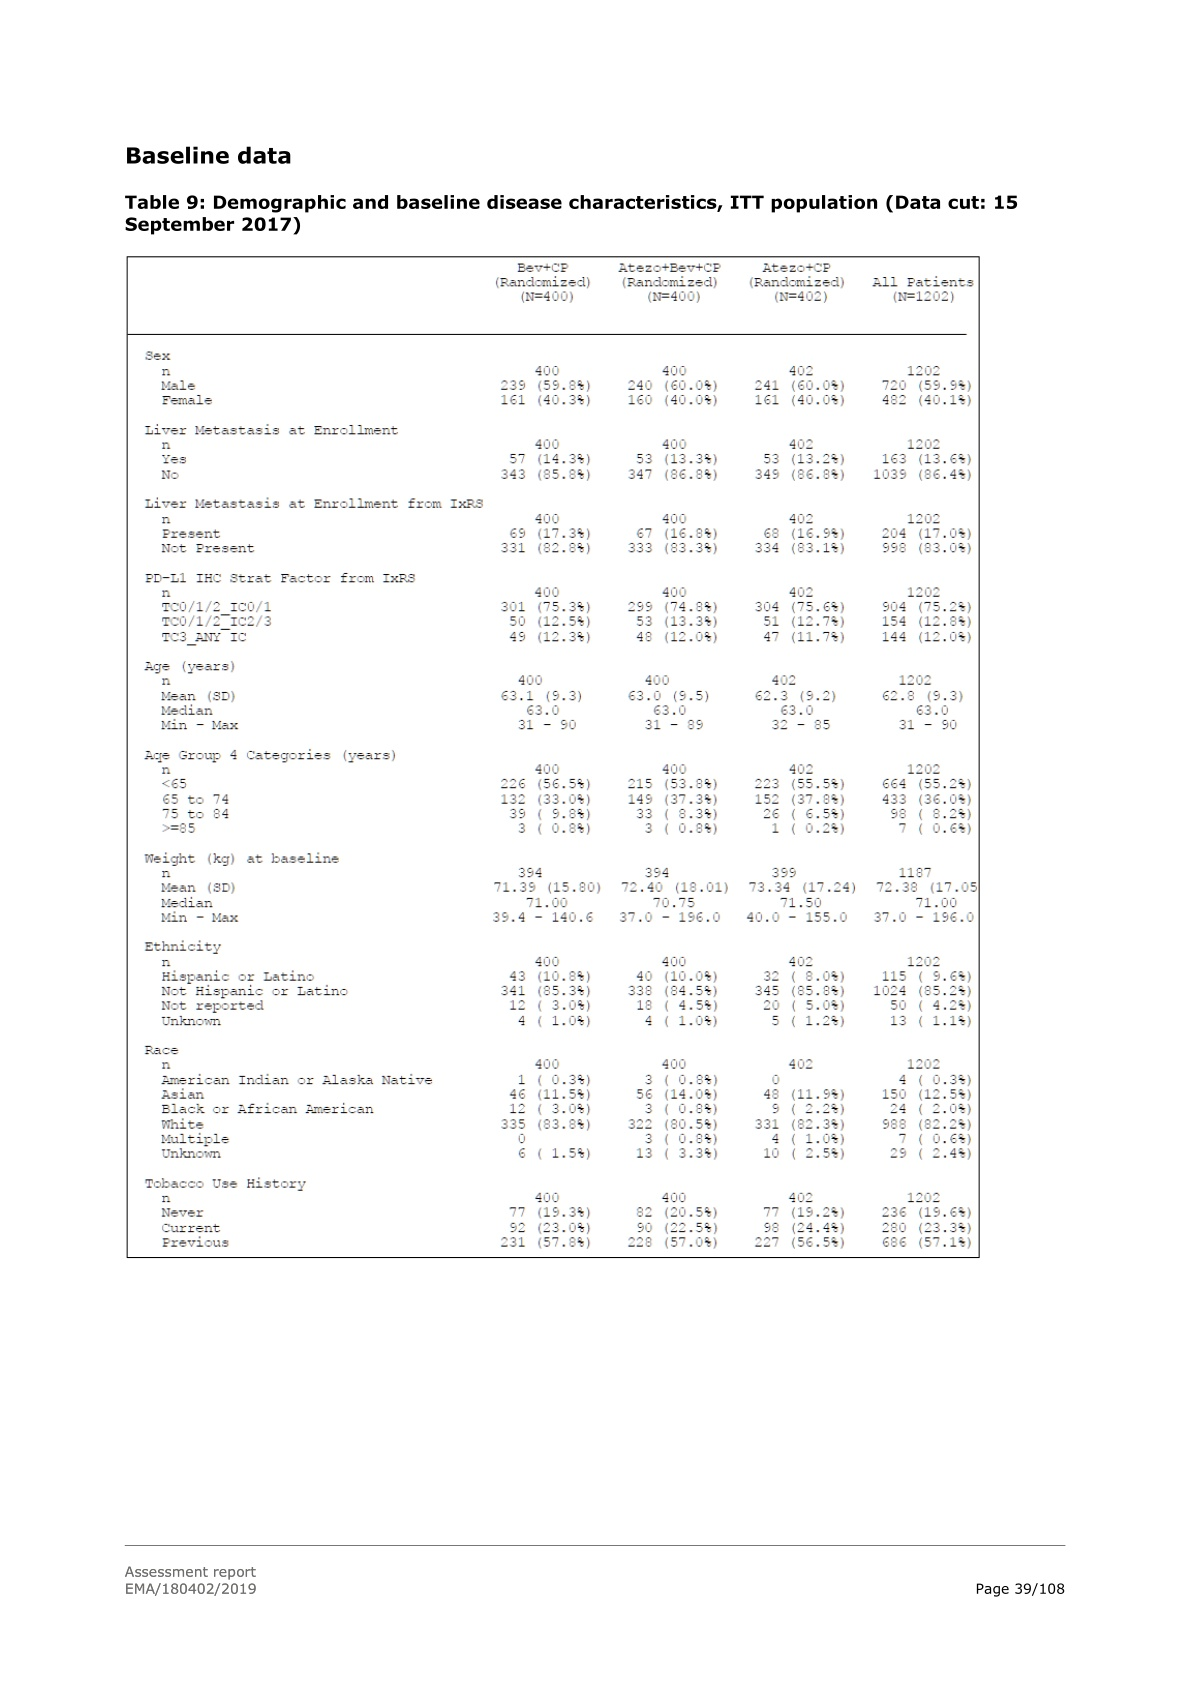partial_lined_merged_cells: (125, 252, 981, 1260)
